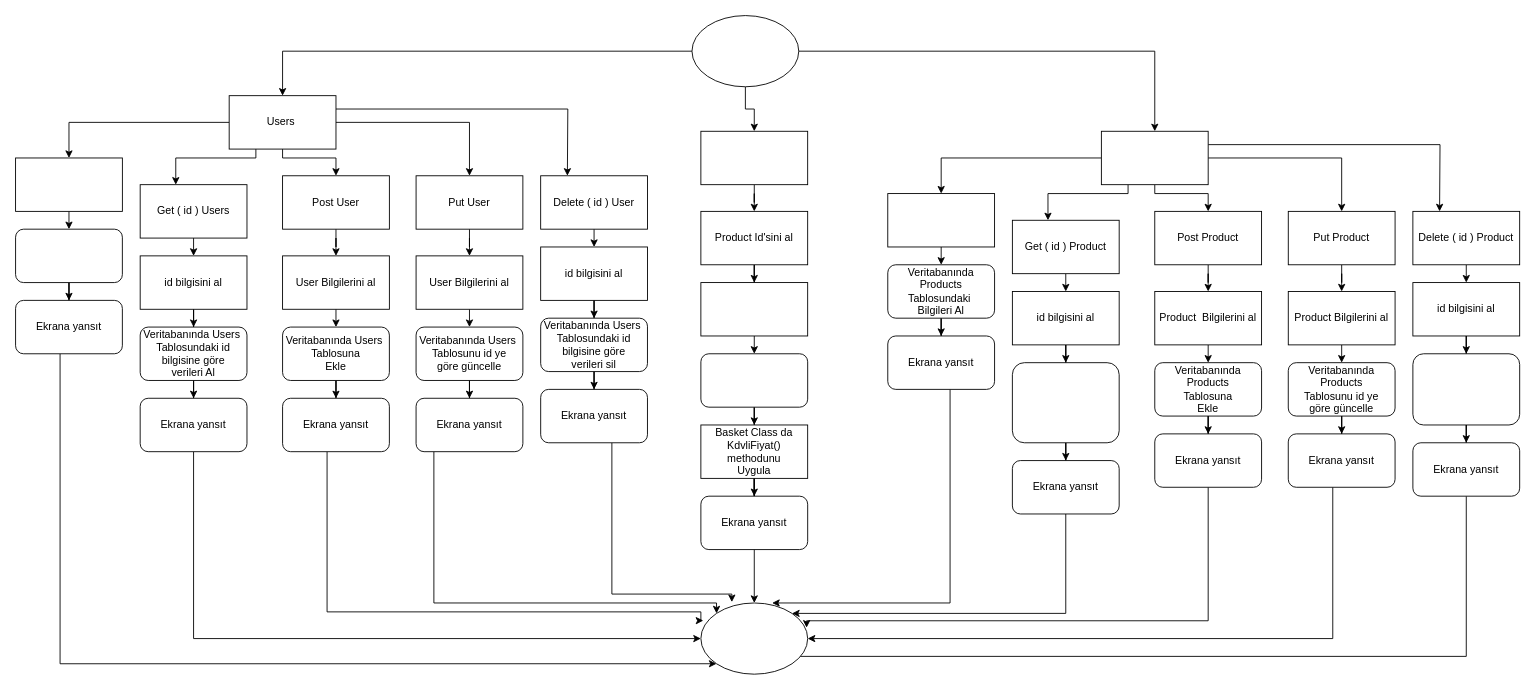
Image size: 1535x690. Some labels were removed from this diagram. Each missing label, with the centre of its shape:
"Basket" goes at point 754,157.
"Başla" goes at point 745,51.
"Bitir" goes at point 754,638.
"Get Products" goes at point 941,220.
"Get Users" goes at point 68,184.
"Products" goes at point 1154,157.
"Products Listesine Ekle" goes at point 754,309.
"Veritabanında Products Tablosunda id ye göre bilgileri al" goes at point 754,380.
"Veritabanında Products Tablosundaki id bilgisine göre verileri Al" goes at point 1065,402.
"Veritabanında Profucts Tablosundaki id bilgisine göre verileri sil" goes at point 1466,389.
"Veritabanında Users Tablosundaki Bilgileri Al" goes at point 68,255.
